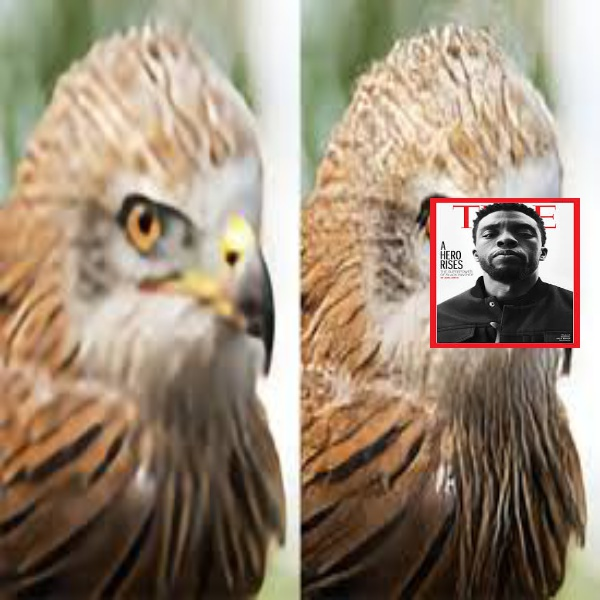time_cover: (427, 191, 586, 360)
